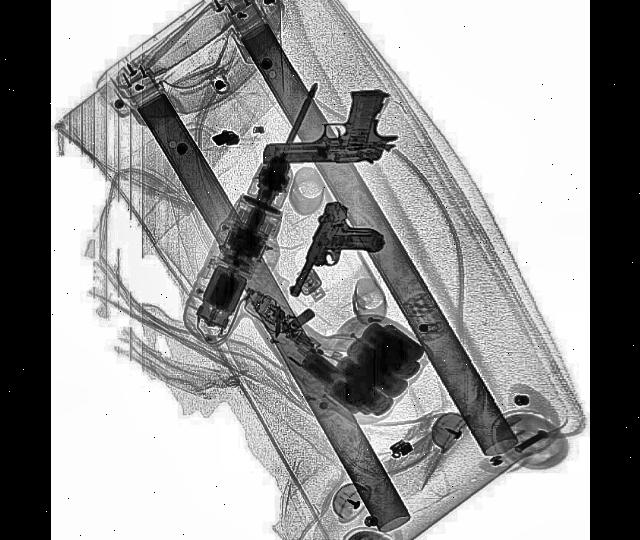Gun: (288, 192, 389, 334), (262, 87, 398, 165)
